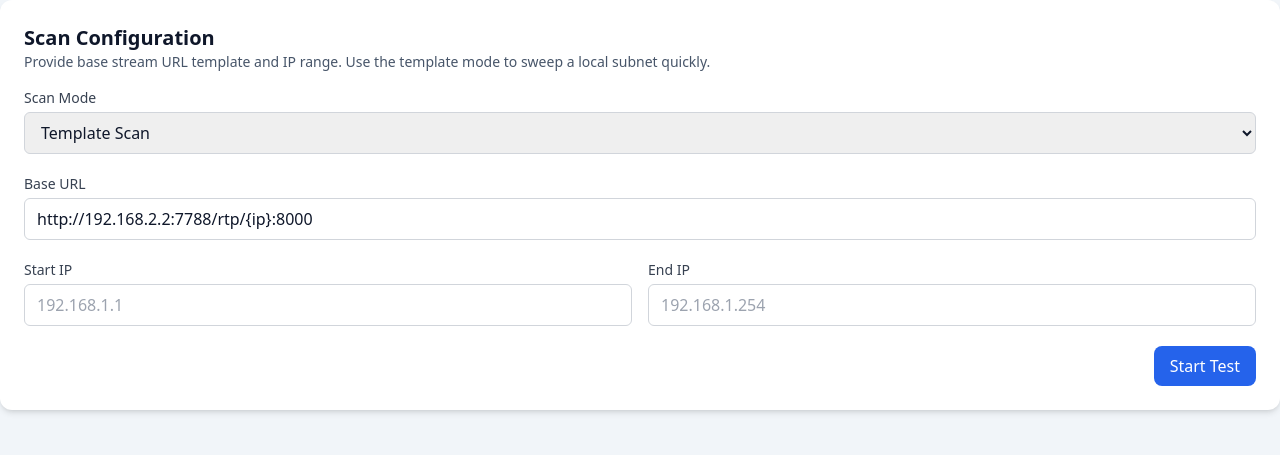
it: ScanConfigForm › validates IP address format
Type "invalid-ip" into the field named "startIp".
click(328, 305); type("invalid-ip")  # box [24,284,632,326]
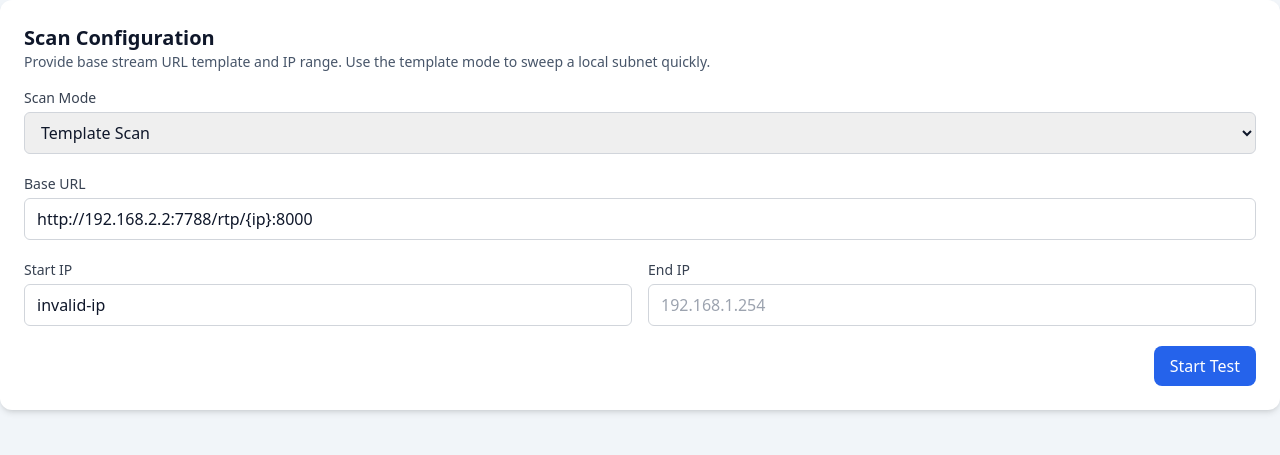
Type "192.168.1.10" into the field named "endIp".
click(952, 305); type("192.168.1.10")  # box [648,284,1256,326]
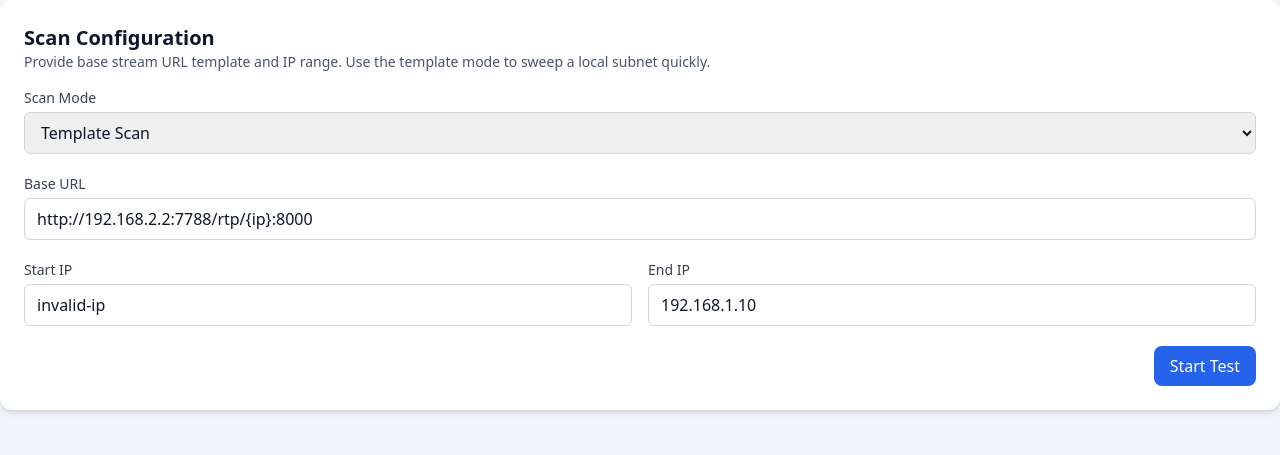
Submit the form
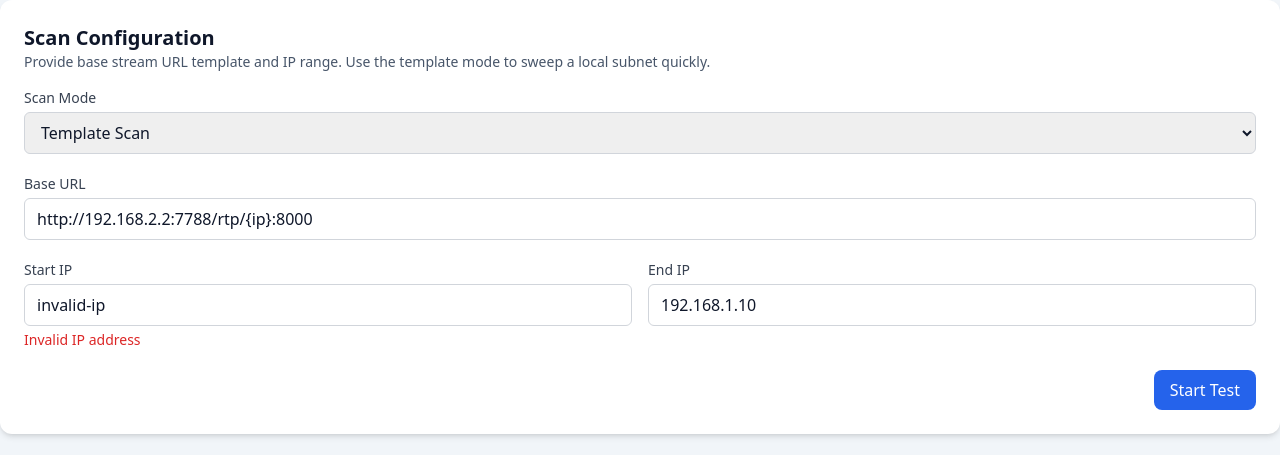
Expected: the text "Invalid IP address" is shown, [24,330,141,349]
